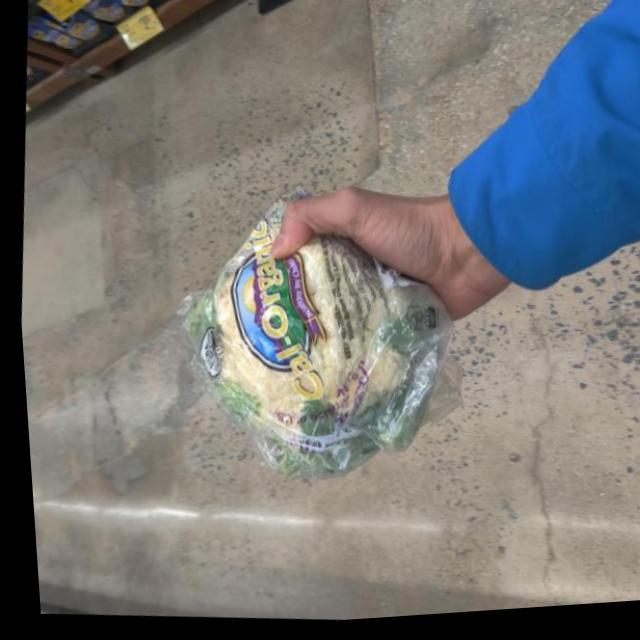Cauliflower: (158, 179, 467, 496)
